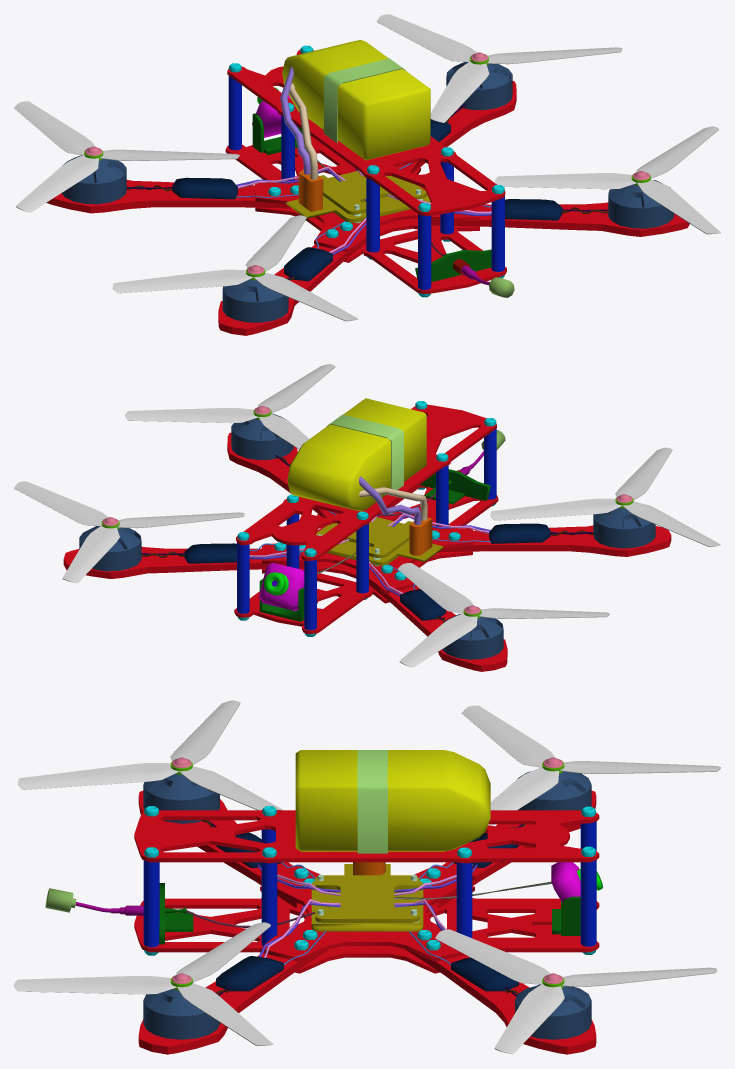
The model's file is dron_a.fbx.
3 renders of one model, top to bottom at view 1: azimuth 30°, elevation 25°; view 2: azimuth 150°, elevation 25°; view 3: azimuth 270°, elevation 25°, orthographic. The views are drawn at different scales.
Parts seen in each view (by area): view 1: dron, propellers; view 2: dron, propellers; view 3: dron, propellers.
Boxes of the visible parts, <box> form: dron: <box>46,40,689,335</box>; propellers: <box>14,14,720,321</box>; dron: <box>63,398,671,671</box>; propellers: <box>14,364,720,667</box>; dron: <box>45,750,602,1054</box>; propellers: <box>14,700,720,1054</box>.
Bounding box in the file's own units: 743 × 165 × 632.
